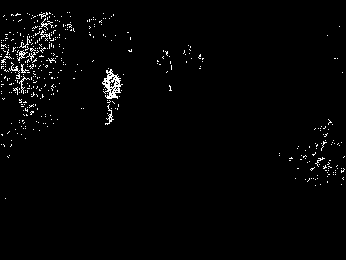person: (101, 68, 125, 127), (156, 50, 177, 94)
